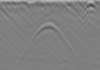hyperbola: (21, 20, 79, 59)
